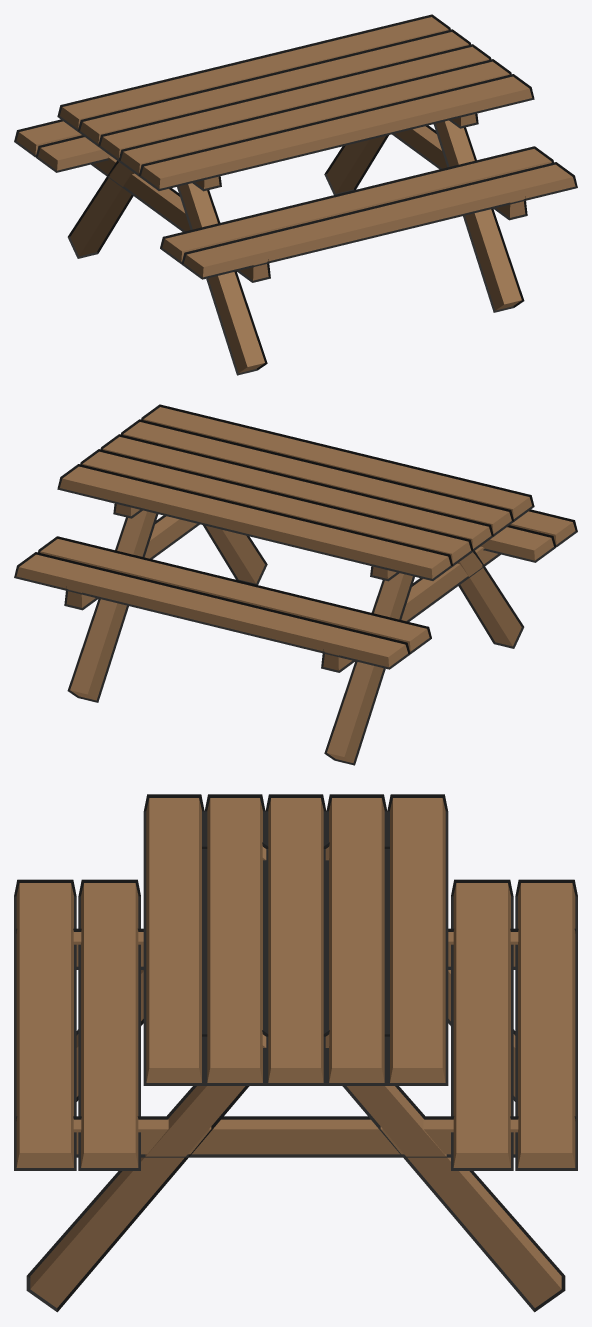
The model's file is table.fbx.
The picture shows the model from 3 angles, top to bottom: view 1: azimuth 30°, elevation 25°; view 2: azimuth 150°, elevation 25°; view 3: azimuth 270°, elevation 25°; orthographic projection. The views are drawn at different scales.
Parts seen in each view (by area): view 1: Park_PicnicTable; view 2: Park_PicnicTable; view 3: Park_PicnicTable.
Boxes of the visible parts, bbox=[...] form: Park_PicnicTable: bbox=[14, 14, 577, 375]; Park_PicnicTable: bbox=[14, 404, 577, 765]; Park_PicnicTable: bbox=[14, 794, 577, 1312].
Bounding box in the file's own units: 181 × 86.51 × 157.
